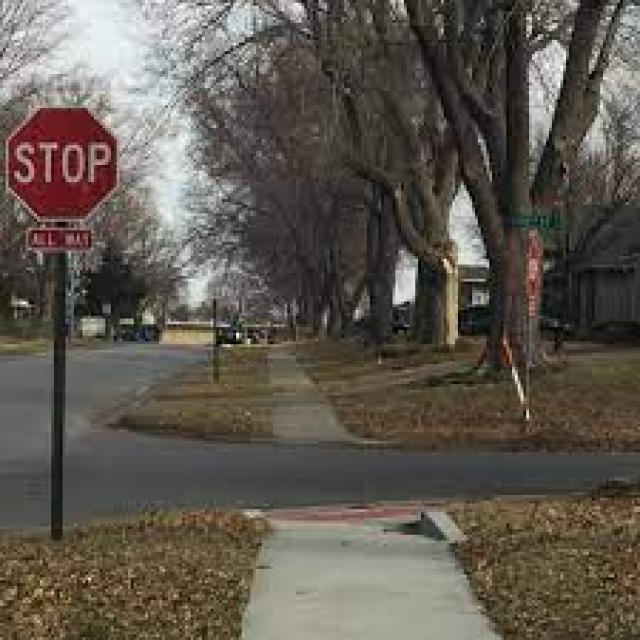stop-sign: (6, 90, 123, 235)
